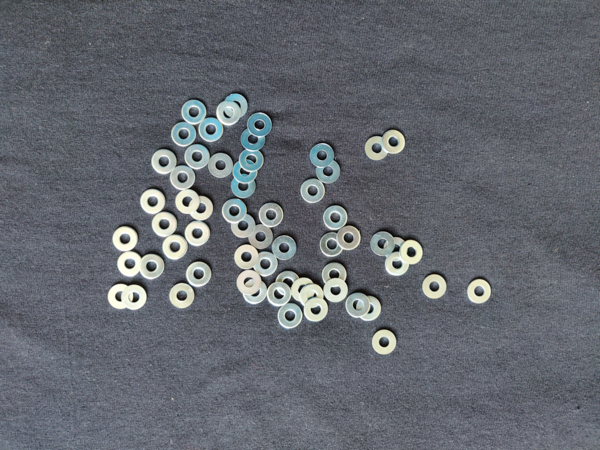circle: (371, 327, 399, 358), (166, 282, 195, 311), (382, 235, 411, 263), (356, 294, 383, 323), (185, 262, 214, 289), (140, 253, 167, 282), (364, 134, 390, 164), (315, 159, 343, 186), (123, 283, 150, 311), (112, 225, 140, 252), (161, 236, 189, 263), (309, 140, 335, 169), (169, 166, 198, 192), (299, 178, 326, 205), (277, 303, 304, 330), (242, 279, 269, 306), (140, 189, 167, 216), (370, 230, 396, 258), (345, 292, 371, 320), (247, 112, 275, 138), (117, 252, 145, 278), (206, 153, 234, 179), (256, 202, 285, 227), (109, 281, 134, 310), (381, 129, 407, 156), (151, 212, 177, 239), (171, 121, 197, 148), (466, 280, 494, 305), (229, 214, 257, 239), (240, 127, 268, 152), (224, 92, 249, 120), (384, 252, 410, 278), (322, 262, 348, 288), (222, 198, 248, 224), (231, 174, 257, 200), (186, 221, 212, 247), (175, 189, 201, 215), (248, 224, 275, 249), (189, 196, 216, 221), (185, 145, 210, 172), (422, 275, 447, 301), (323, 204, 348, 230), (233, 158, 259, 183), (152, 150, 178, 175), (337, 225, 361, 252), (303, 298, 330, 322), (292, 276, 316, 303), (237, 148, 264, 172), (322, 280, 350, 303), (400, 240, 425, 265), (182, 100, 207, 125), (277, 272, 301, 298), (254, 251, 278, 277), (300, 284, 325, 308), (267, 283, 292, 307), (233, 245, 257, 270), (272, 236, 296, 261), (236, 271, 262, 294), (319, 233, 343, 257), (198, 119, 223, 142), (217, 102, 241, 125)
